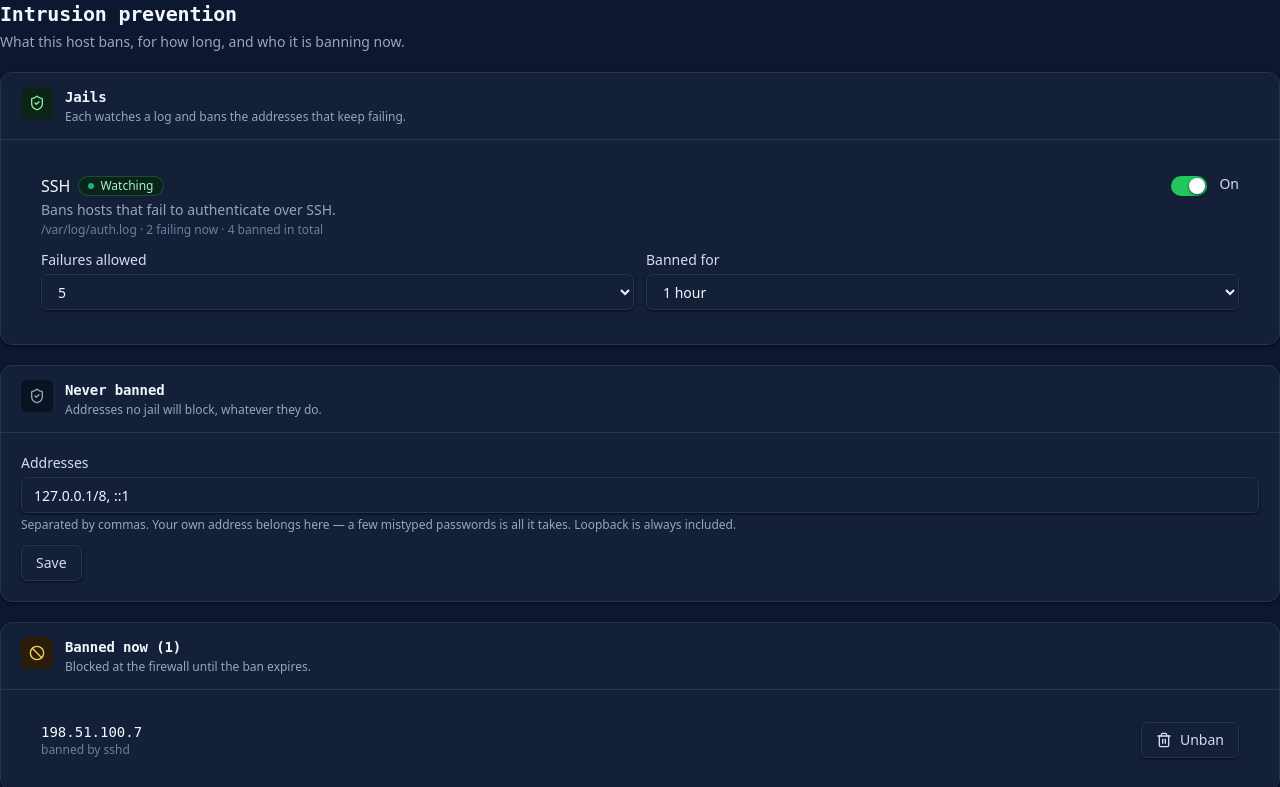
Fail2BanPage › shows the reason a change was refused
Select "10" in the dropdown labelled "Failures allowed" at [338, 292], box [41, 274, 634, 310]
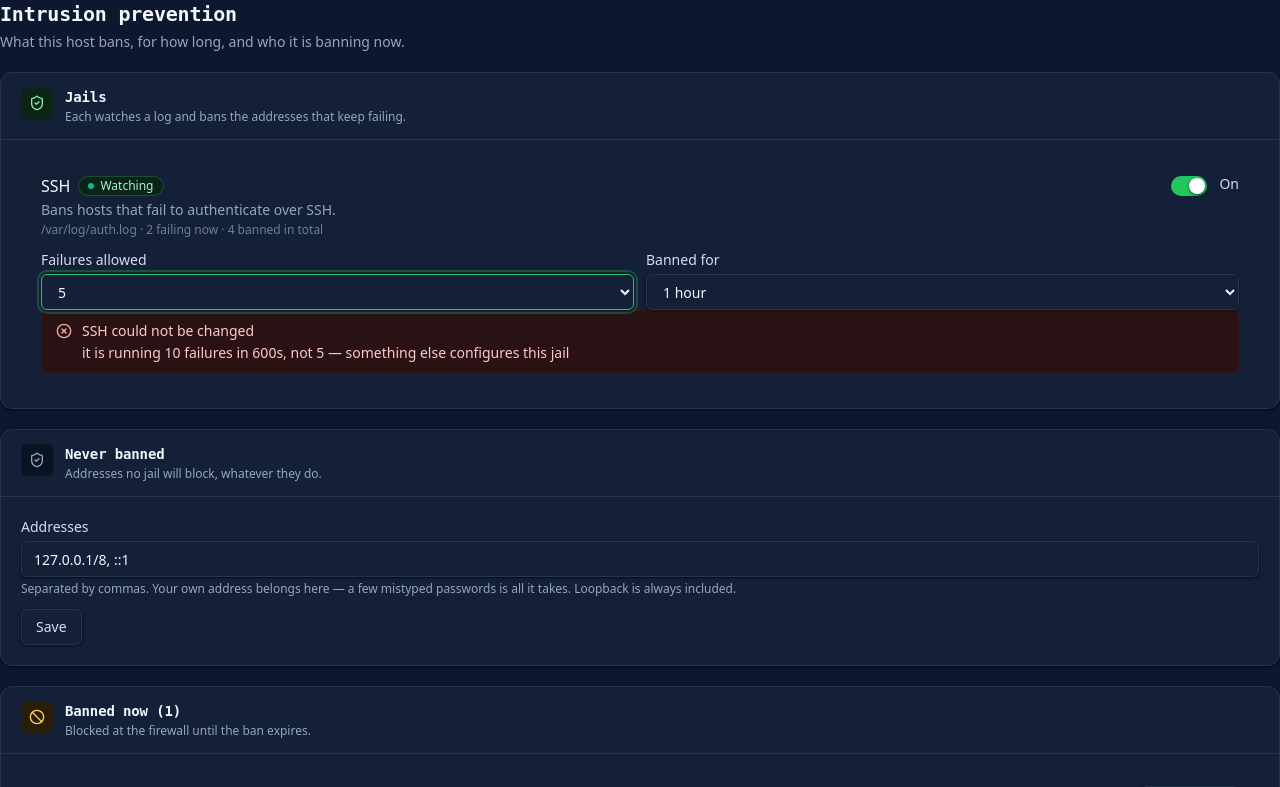
Expected: the text "something else configures this jail" is shown, [82, 343, 569, 362]
